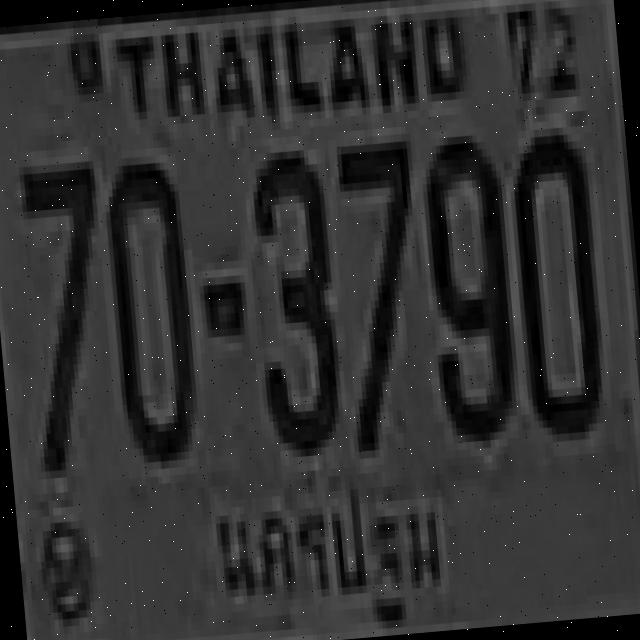0: (504, 126, 606, 436), (101, 154, 202, 464)
3: (240, 142, 342, 452)
7: (16, 153, 117, 471), (331, 134, 432, 444)
9: (413, 126, 518, 437)
NakhonPathom: (206, 468, 460, 640)
